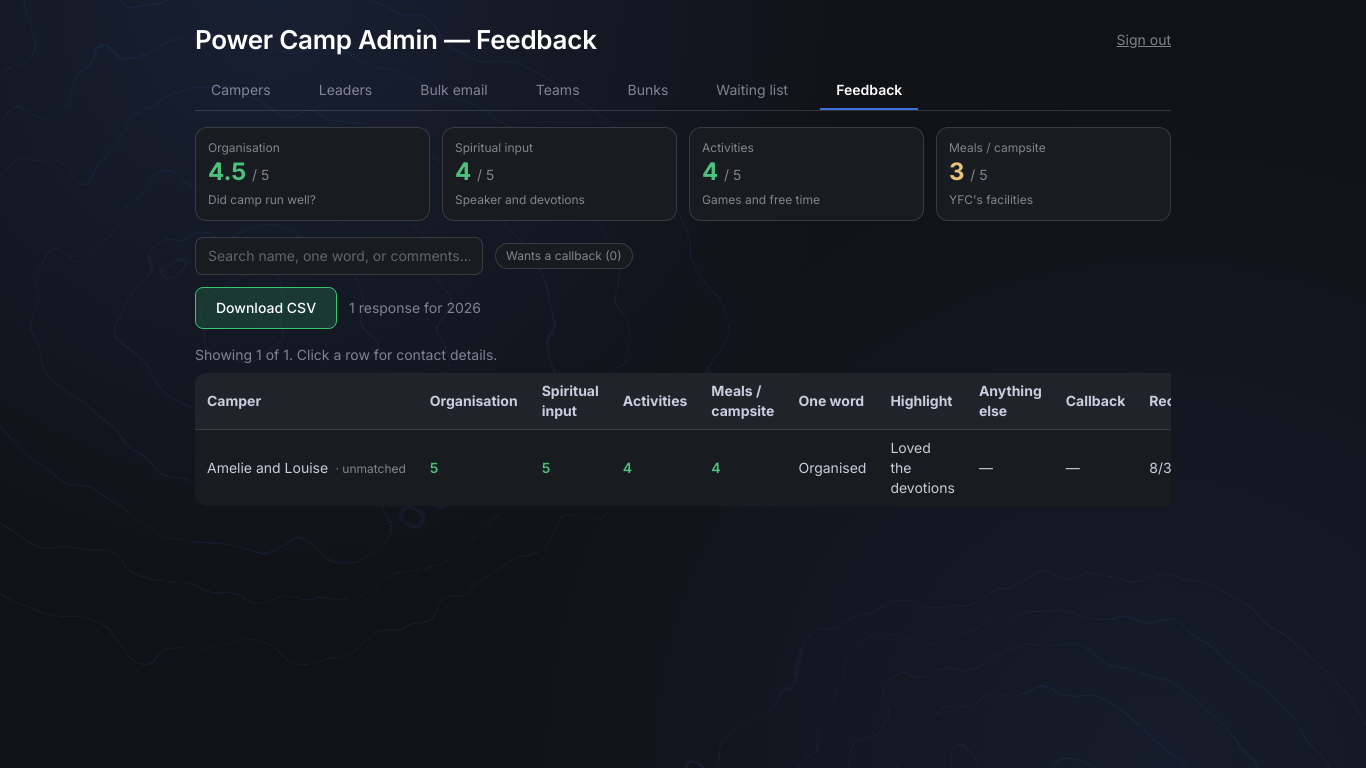
Test: AdminFeedbackComponent › explains the gap when an unmatched entry has no record to pull contacts from
Click the row with test id "feedback-row-1". click: x=710, y=468
box: [195,430,1224,506]
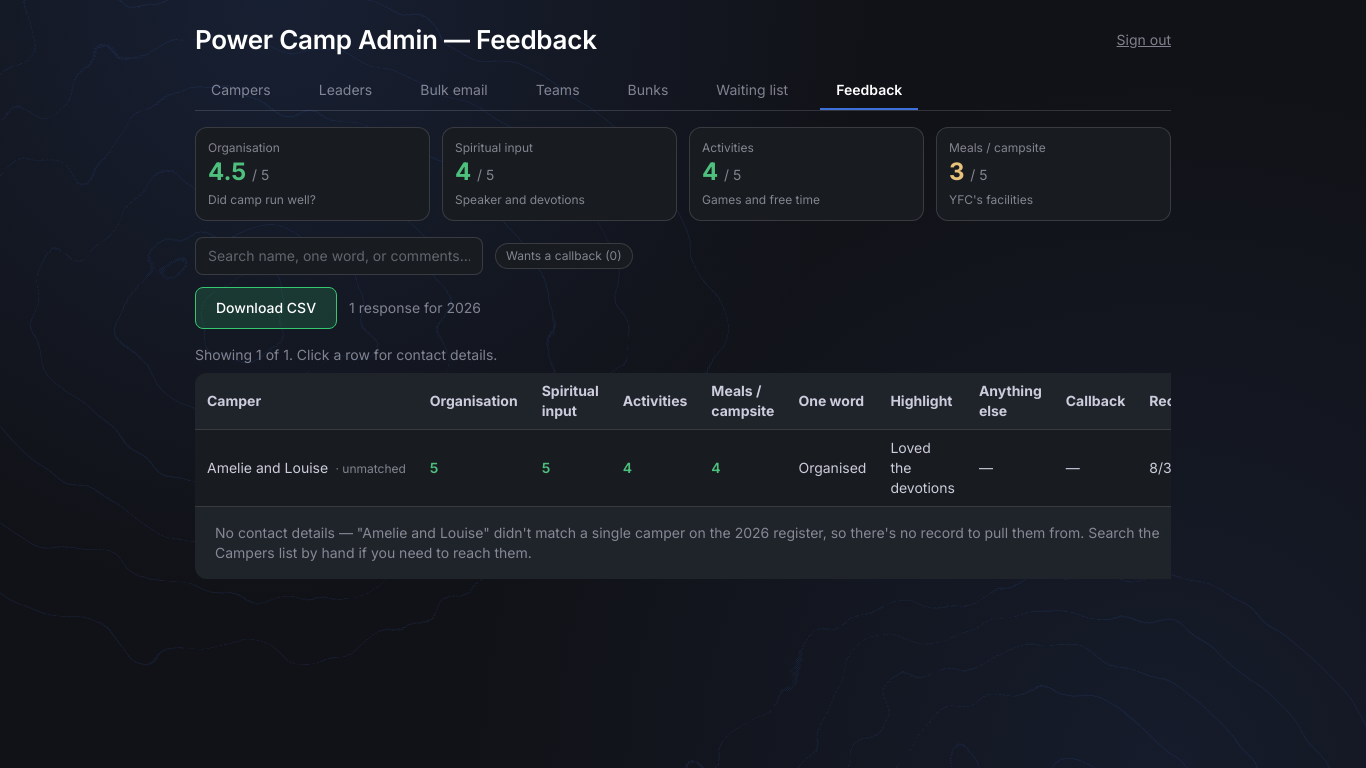
Check: the row with test id "contact-row-1" shows "No contact details", box [215,524,1160,561]
